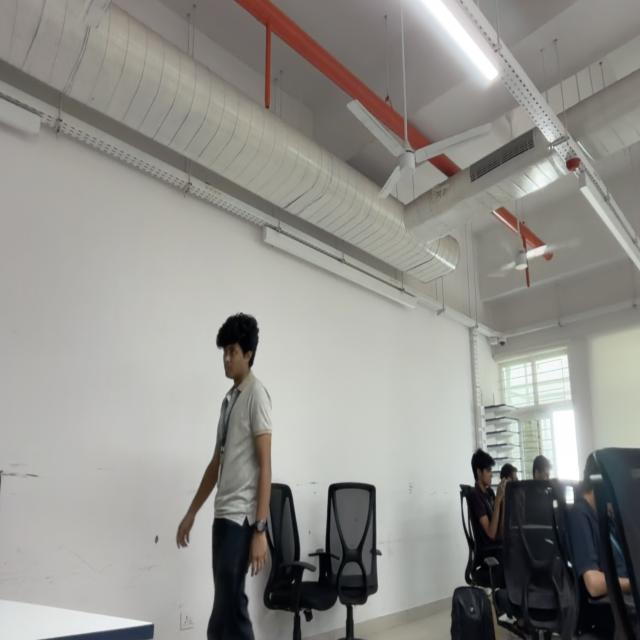kshitij: (216, 313, 258, 379)
